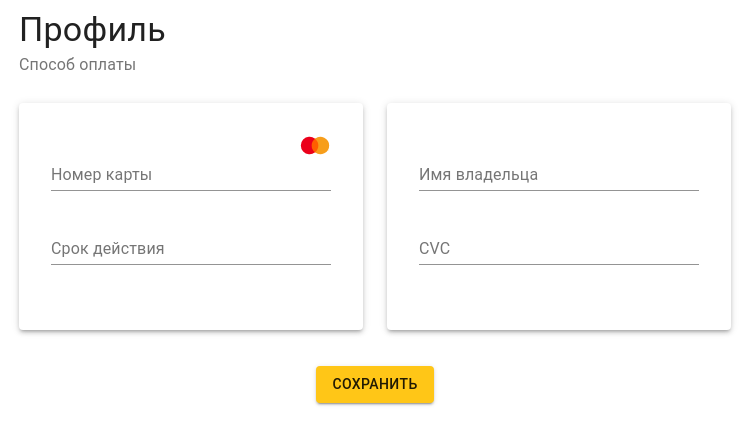
Test: Profile Component › При нажатии кнопки Сохранить невалидная форма не отправляется, выводятся сообщения об ошибках
The image size is (751, 424).
Type "0000" into the field labelled "Номер карты" at (191, 175), box [51,159,331,191]
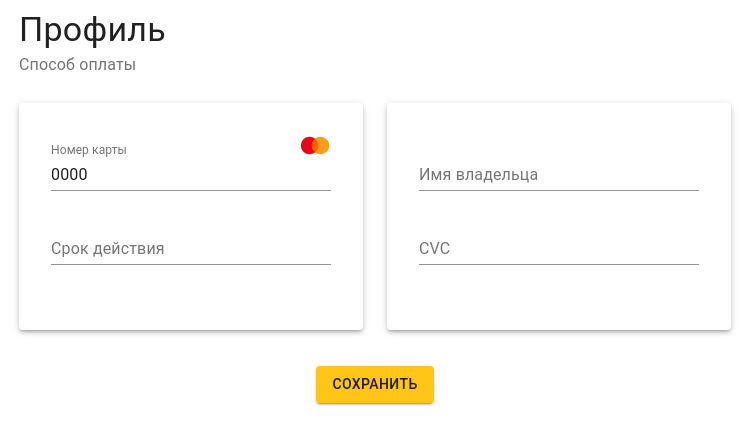
Click the button with test id "profileSubmitBtn" at (375, 384), box [316,366,434,403]
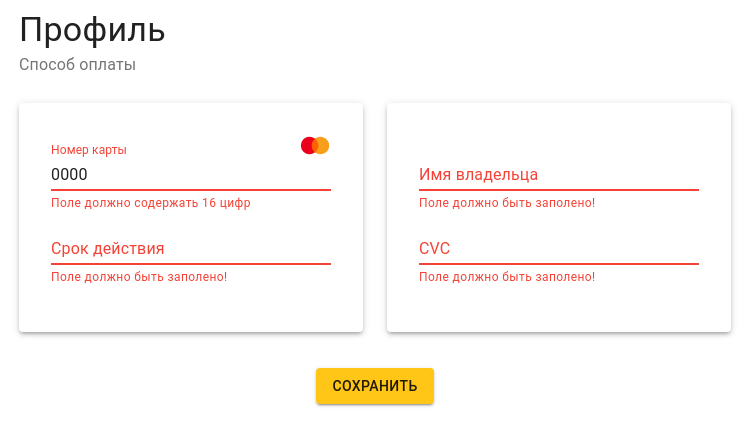
Now the text "Поле должно быть заполено!" below "Срок действия" is shown, box [51,270,228,284]
Now the text "Поле должно содержать 16 цифр" is shown, box [51,196,251,210]
